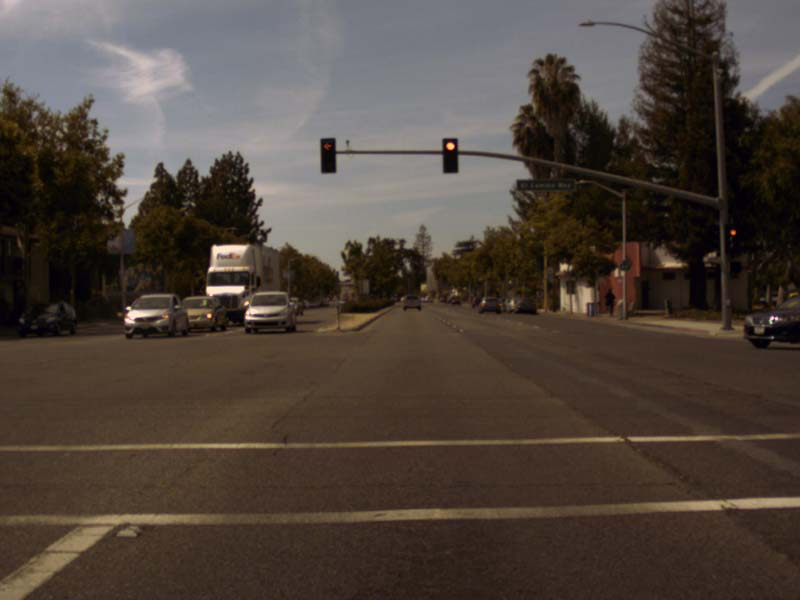Red: (442, 137, 457, 172), (321, 138, 335, 172), (726, 225, 739, 254)
